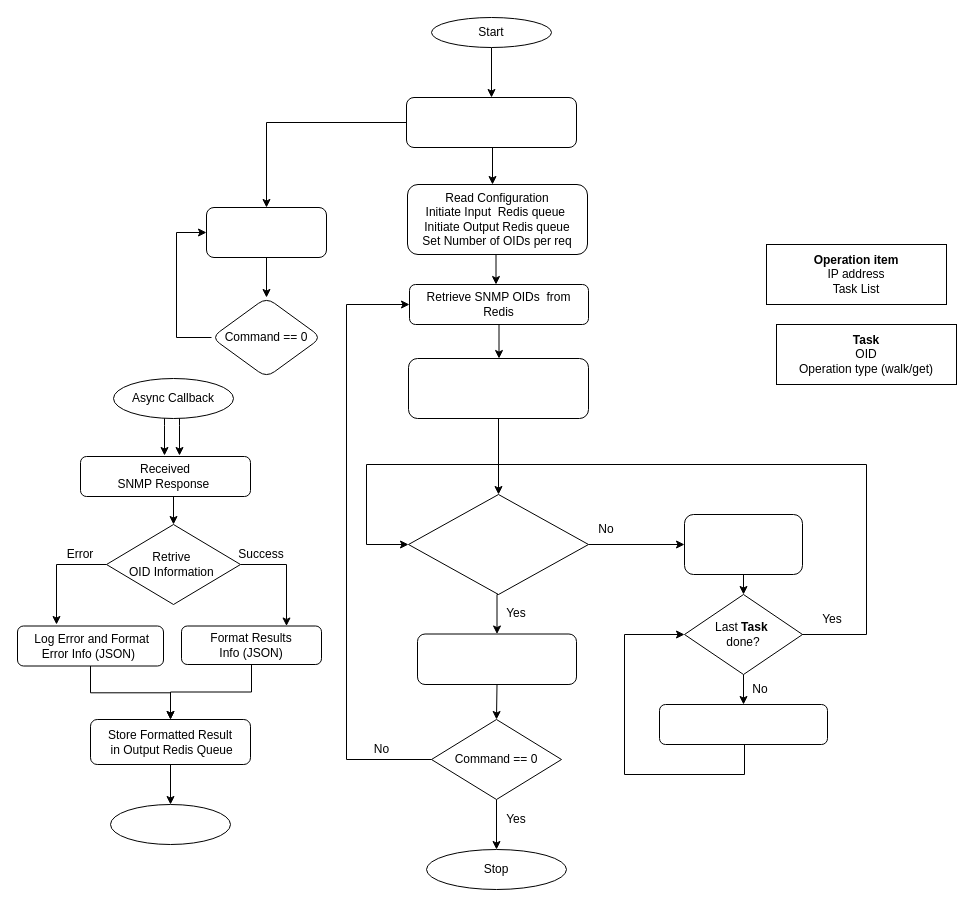
The diagram is 974 pixels wide and 907 high, and some of its shapes have lost their labels. The centre of each missing label's shape, as x and y in pixels:
Convert and perse list of operation item from json: (x=498, y=388)
Delete Processed Item List from Redis: (x=496, y=658)
Done: (x=170, y=824)
Init snmp with IP Address: (x=743, y=544)
Initialize System Set Command = 1: (x=491, y=122)
Last Operation Item process done?: (x=498, y=544)
Scan Command: (x=266, y=232)
SNMP Async request (GET/WALK) with OID: (x=743, y=724)
